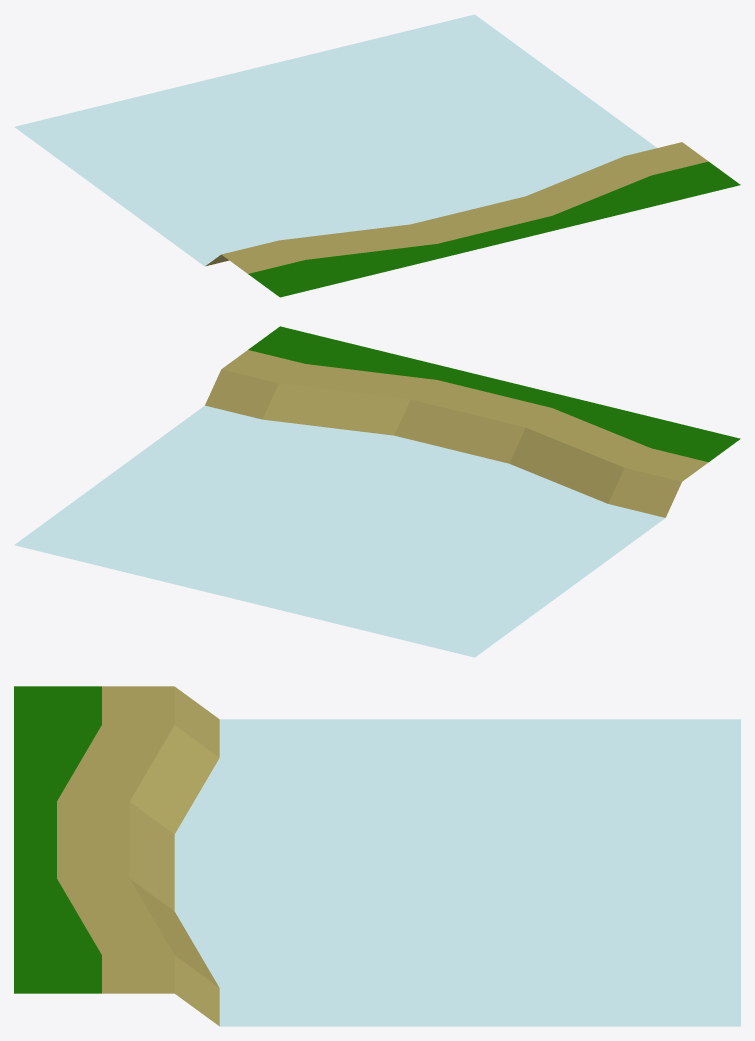
The model's file is ground_riverSide.fbx.
The picture shows the model from 3 angles, top to bottom: view 1: azimuth 30°, elevation 25°; view 2: azimuth 150°, elevation 25°; view 3: azimuth 270°, elevation 25°; orthographic projection. The views are drawn at different scales.
Parts seen in each view (by area): view 1: ground_riverSide; view 2: ground_riverSide; view 3: ground_riverSide.
Boxes of the visible parts, x1=… form: ground_riverSide: x1=14, y1=14, x2=740, y2=297; ground_riverSide: x1=14, y1=326, x2=740, y2=657; ground_riverSide: x1=14, y1=686, x2=740, y2=1026.
Size of the model in its own units: 100 by 5 by 100.
